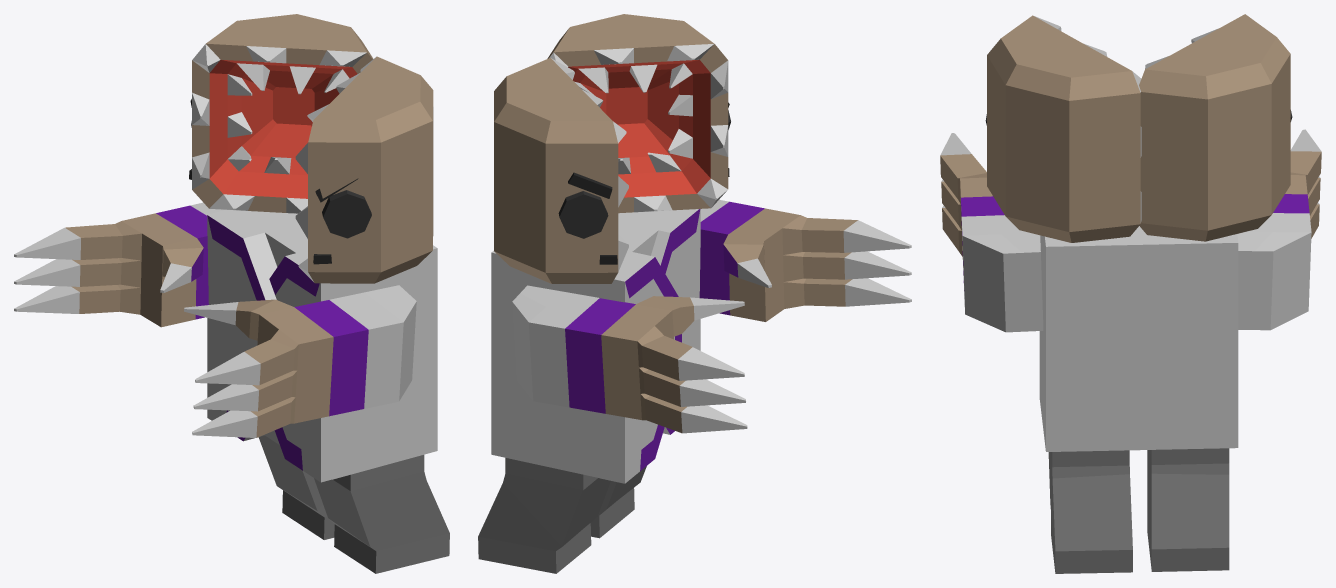
The model's file is Enemy_Walk (1).fbx.
The picture shows the model from 3 angles, left to right: view 1: azimuth 30°, elevation 25°; view 2: azimuth 150°, elevation 25°; view 3: azimuth 270°, elevation 25°; orthographic projection.
Visible parts, largest first — view 1: Cube.072; view 2: Cube.072; view 3: Cube.072.
Boxes of the visible parts, x1=… form: Cube.072: x1=14, y1=14, x2=449, y2=573; Cube.072: x1=478, y1=14, x2=911, y2=573; Cube.072: x1=940, y1=14, x2=1321, y2=573.
Size of the model in its own units: 138 by 202 by 144.
